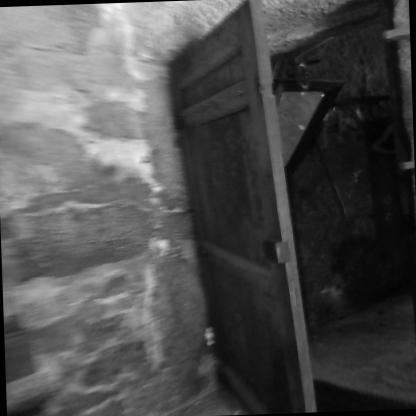semi: (140, 10, 416, 416)
